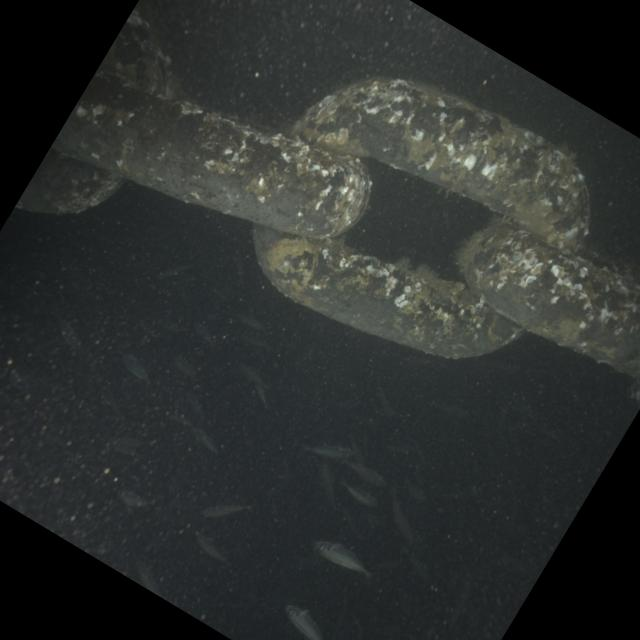ChainLink: (51, 74, 369, 238), (293, 78, 589, 249), (253, 225, 524, 359), (460, 222, 640, 378), (97, 8, 180, 99), (15, 147, 125, 213)
